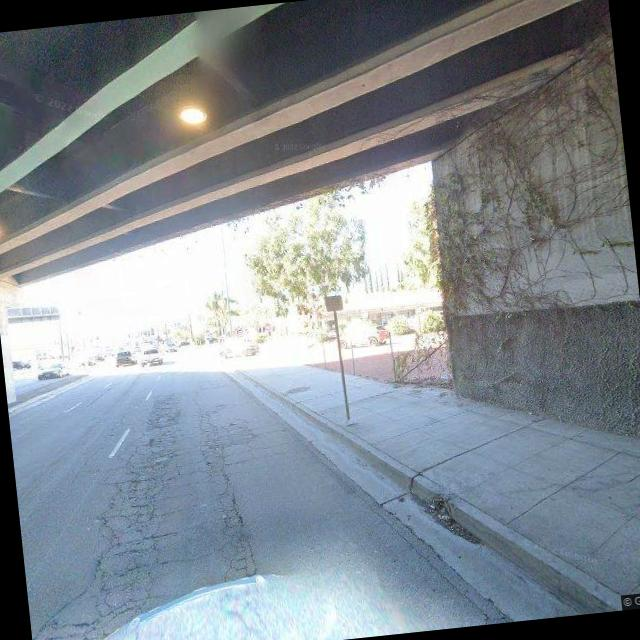crack: (34, 384, 282, 640)
